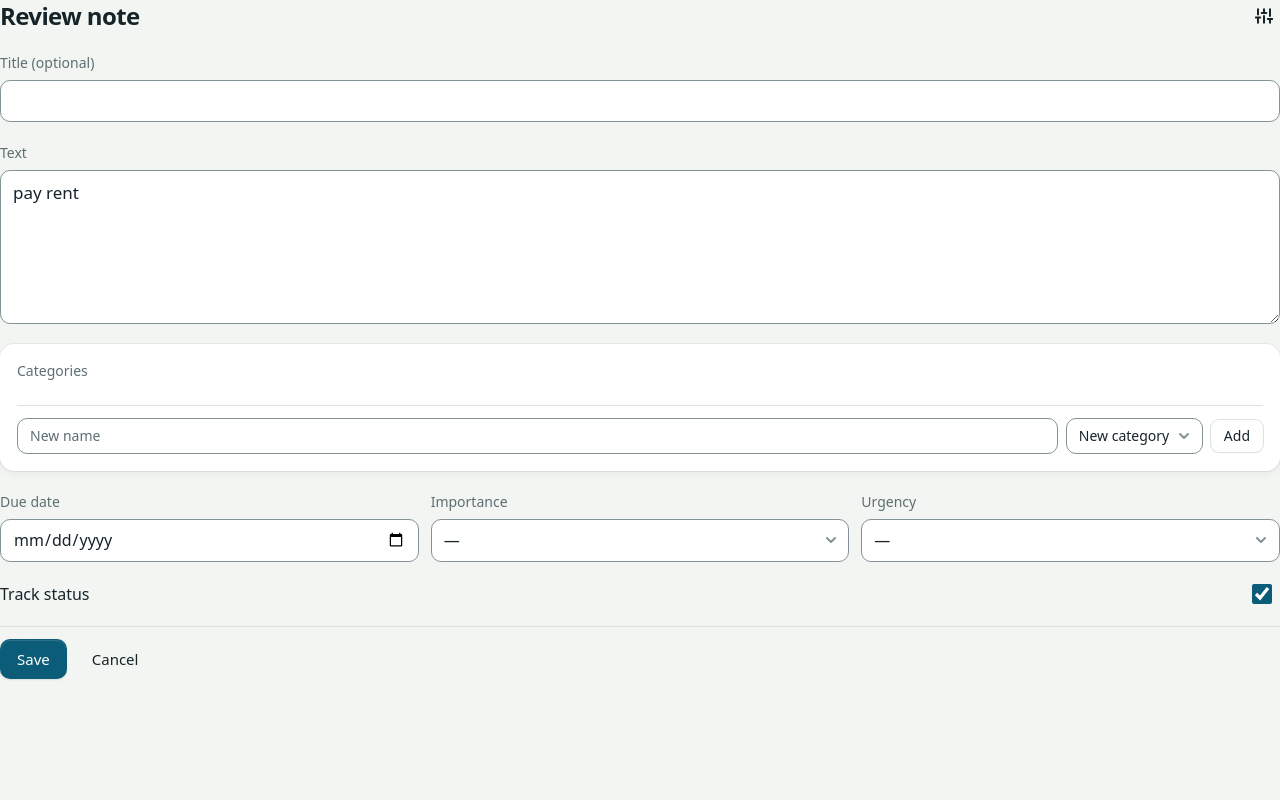
Test: NoteEditor choice display › disables the last offered value chip in the sheet
What coordinates should you click on to do the following:
click the button named "Form settings"
I would click on:
 (1264, 16)
Its box is [1248,0,1279,32].
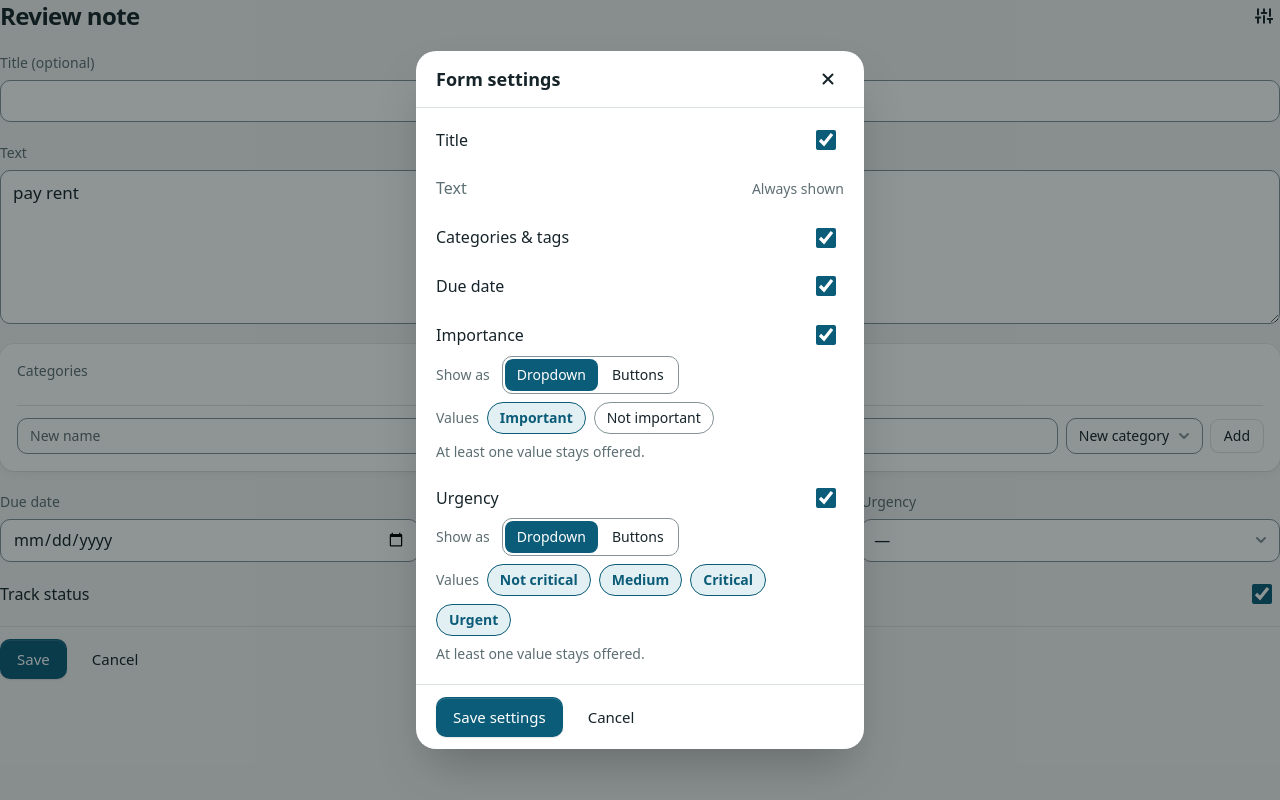
Result: the button "Important" is disabled at [487,402,586,434]
